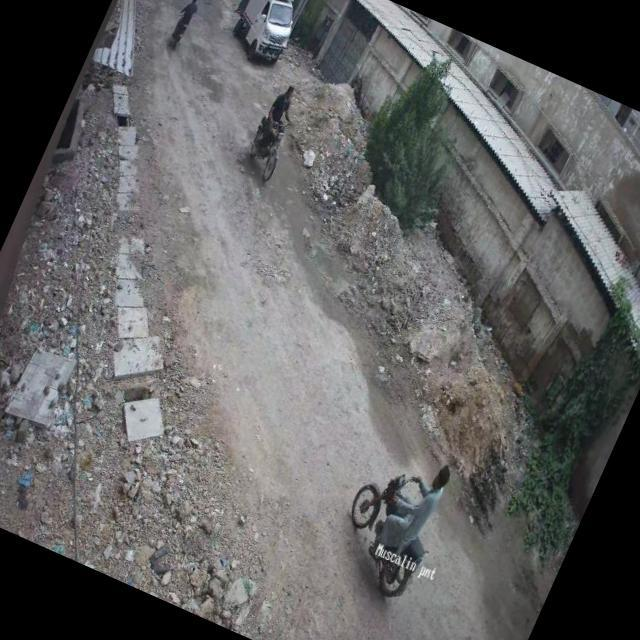person: (384, 448, 460, 562), (263, 78, 310, 136), (176, 0, 207, 28)
